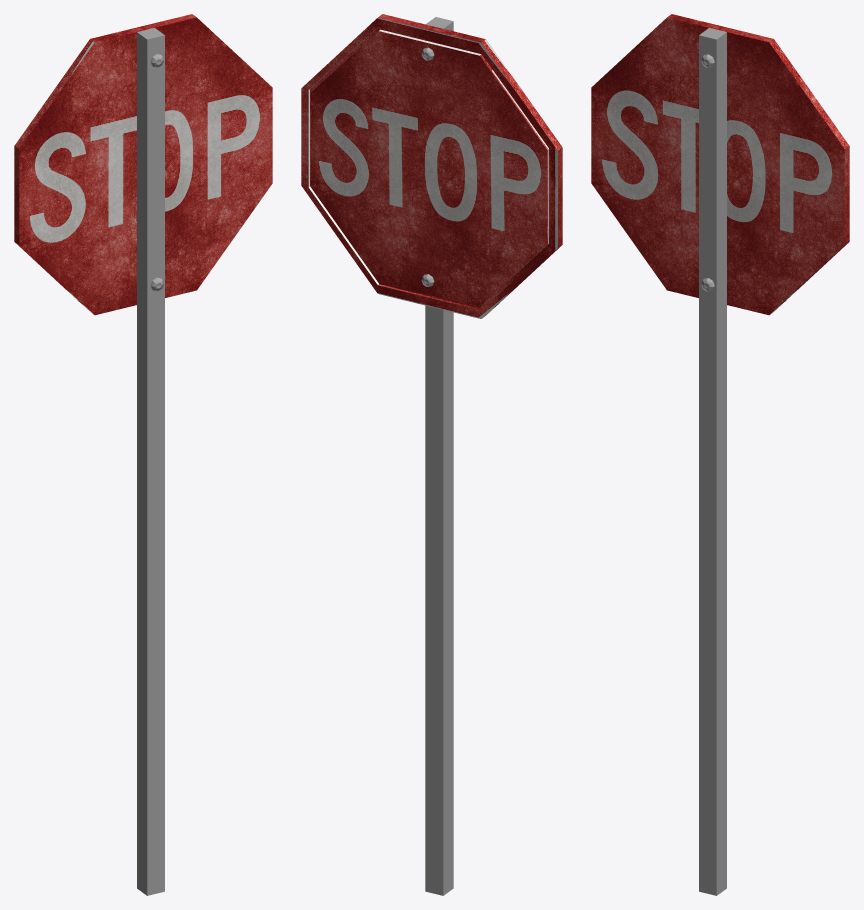
Rendered from stopSign.fbx.
The picture shows the model from 3 angles, left to right: view 1: azimuth 30°, elevation 25°; view 2: azimuth 150°, elevation 25°; view 3: azimuth 330°, elevation 25°; orthographic projection.
Visible parts, largest first — view 1: Sign, Pole; view 2: Sign, Pole; view 3: Sign, Pole.
Boxes of the visible parts, x1,y1,x2,y2 form: Sign: [14, 14, 272, 315]; Pole: [137, 28, 164, 895]; Sign: [301, 14, 562, 318]; Pole: [425, 17, 453, 895]; Sign: [591, 14, 849, 315]; Pole: [699, 28, 726, 895].
Bounding box in the file's own units: 0.7257 × 2.34 × 0.0977.
Materials: 2 (1 with a texture image).
